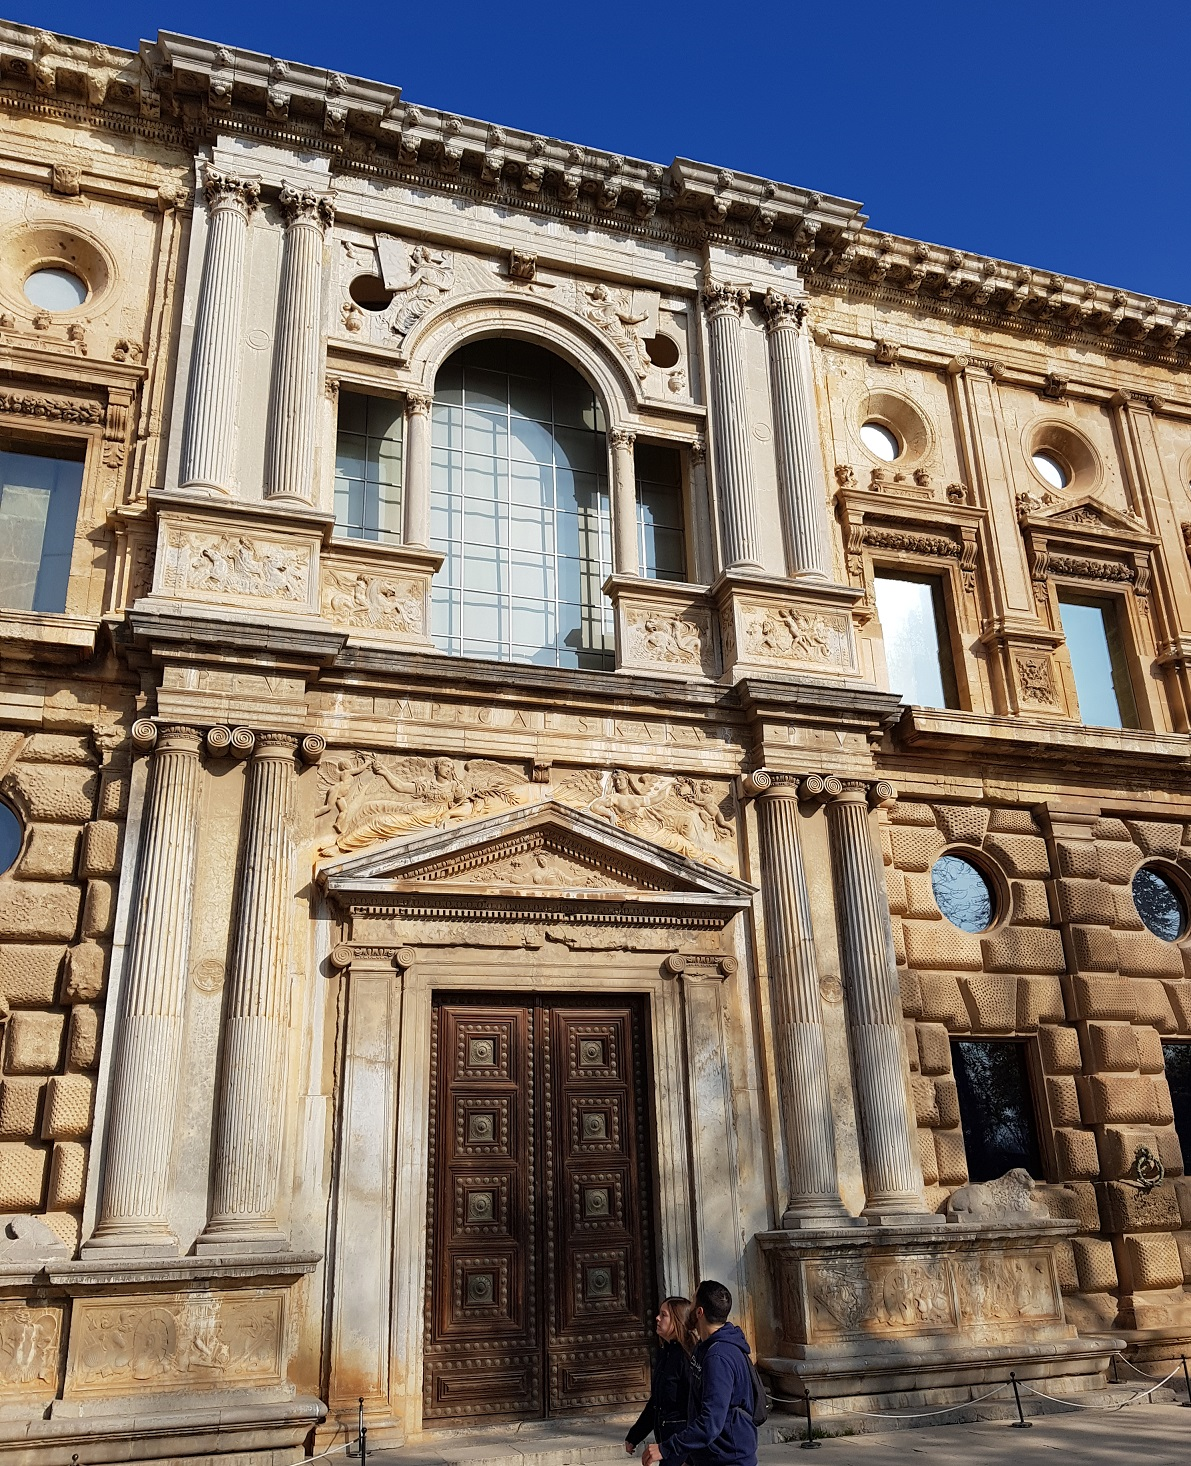fronton: (309, 800, 763, 917), (1018, 494, 1164, 545)
ojo-de-buey: (1, 220, 123, 318), (927, 838, 1017, 934), (848, 383, 939, 468), (1021, 417, 1103, 500), (1129, 851, 1191, 943)
serliana: (324, 291, 719, 582)
vano-adintelado: (390, 945, 690, 1422), (859, 548, 988, 711), (1042, 566, 1164, 734)
